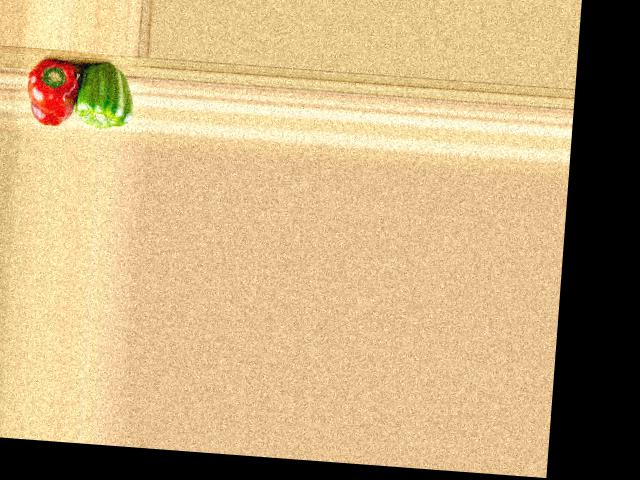bell_pepper: (23, 57, 82, 128)
